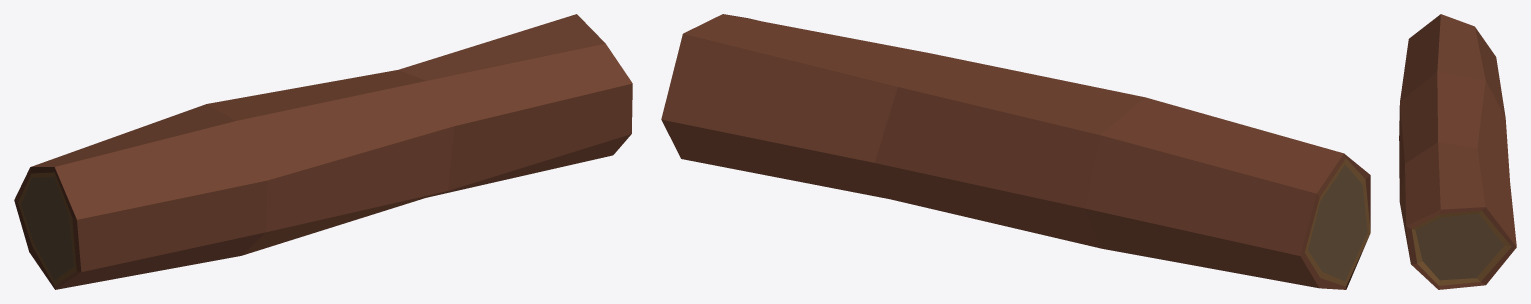
Rendered from Log.glb.
The picture shows the model from 3 angles, left to right: view 1: azimuth 30°, elevation 25°; view 2: azimuth 150°, elevation 25°; view 3: azimuth 270°, elevation 25°; orthographic projection. The views are drawn at different scales.
Visible parts, largest first — view 1: Log2; view 2: Log2; view 3: Log2.
Boxes of the visible parts, <box> form: Log2: <box>14,14,632,289</box>; Log2: <box>661,14,1370,289</box>; Log2: <box>1399,14,1516,289</box>.
Size of the model in its own units: 1.79 by 0.4198 by 0.4673.
1 material, 1 textured.
